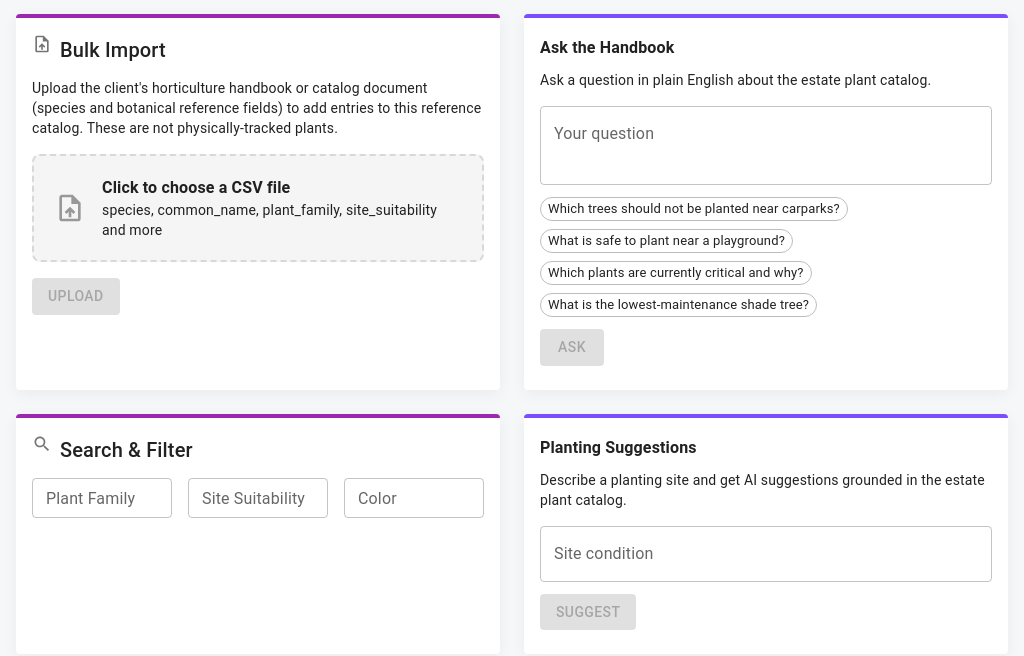
Test: HorticultureHandbook › shows the empty state when no plants match filters
In the field labelled "Plant Family": (102, 498) [32,478,172,518], type "nonexistent"
(page scrolled)
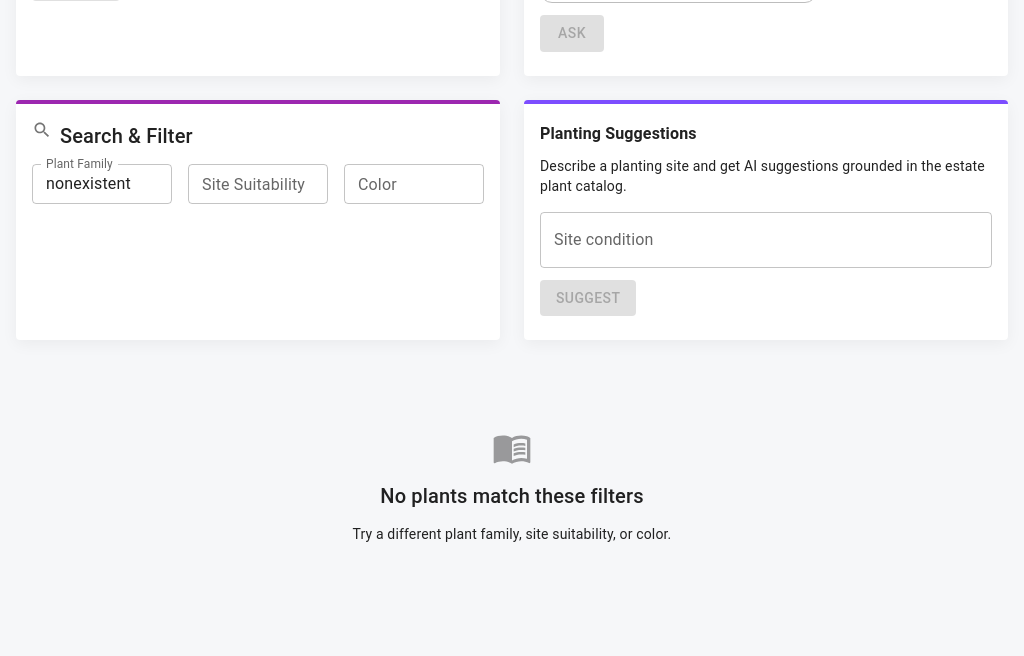
expect the heading "No plants match these filters" is shown: met, box [380,480,644,512]
